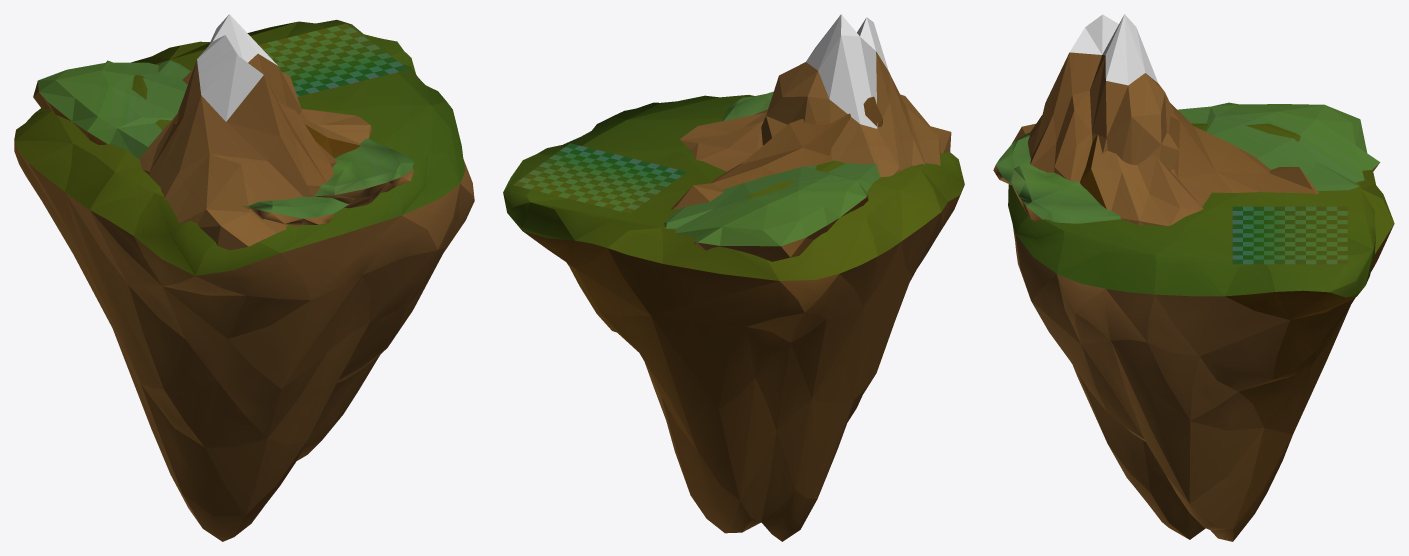
3 views of the same model, side by side, from view 1: azimuth 30°, elevation 25°; view 2: azimuth 150°, elevation 25°; view 3: azimuth 270°, elevation 25° (orthographic). The views are drawn at different scales.
Visible parts, largest first — view 1: rock_1, 4seasons_mountain1, 4seasons_ground_rock, plane_map, 4seasons_mountain005, 4seasons_mountain003, 4seasons_mountain004; view 2: rock_1, 4seasons_mountain1, 4seasons_ground_rock, 4seasons_mountain003, plane_map, 4seasons_mountain005; view 3: rock_1, 4seasons_mountain1, 4seasons_mountain003, 4seasons_ground_rock, plane_map, 4seasons_mountain005, 4seasons_mountain004.
Boxes of the visible parts, x1,y1,x2,y2 form: rock_1: [14, 20, 474, 541]; 4seasons_mountain1: [139, 14, 336, 250]; 4seasons_ground_rock: [33, 60, 191, 158]; plane_map: [259, 23, 408, 96]; 4seasons_mountain005: [314, 138, 414, 208]; 4seasons_mountain003: [173, 70, 372, 157]; 4seasons_mountain004: [242, 196, 349, 226]; rock_1: [503, 95, 964, 541]; 4seasons_mountain1: [761, 14, 951, 177]; 4seasons_ground_rock: [663, 163, 880, 261]; 4seasons_mountain003: [671, 96, 882, 209]; plane_map: [513, 143, 686, 213]; 4seasons_mountain005: [720, 91, 773, 121]; rock_1: [1008, 123, 1394, 541]; 4seasons_mountain1: [1011, 14, 1179, 182]; 4seasons_mountain003: [1080, 103, 1318, 225]; 4seasons_ground_rock: [1177, 102, 1380, 190]; plane_map: [1232, 206, 1347, 264]; 4seasons_mountain005: [1011, 163, 1120, 223]; 4seasons_mountain004: [993, 132, 1030, 185].
Size of the model in its own units: 3939 by 5410 by 3835.
Materials: 6 (6 with a texture image).
